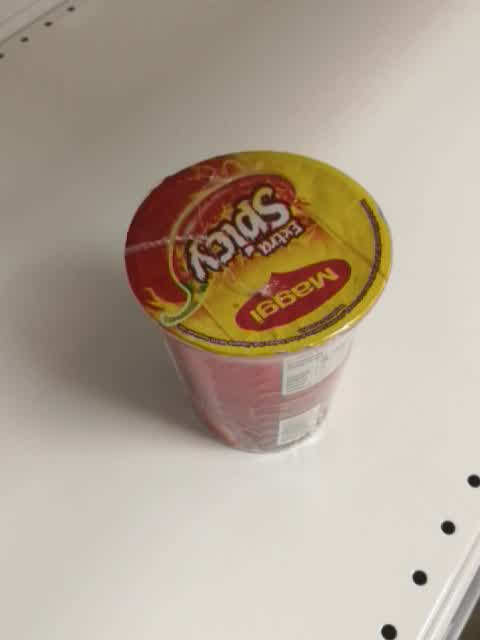maggi: (125, 151, 394, 454)
